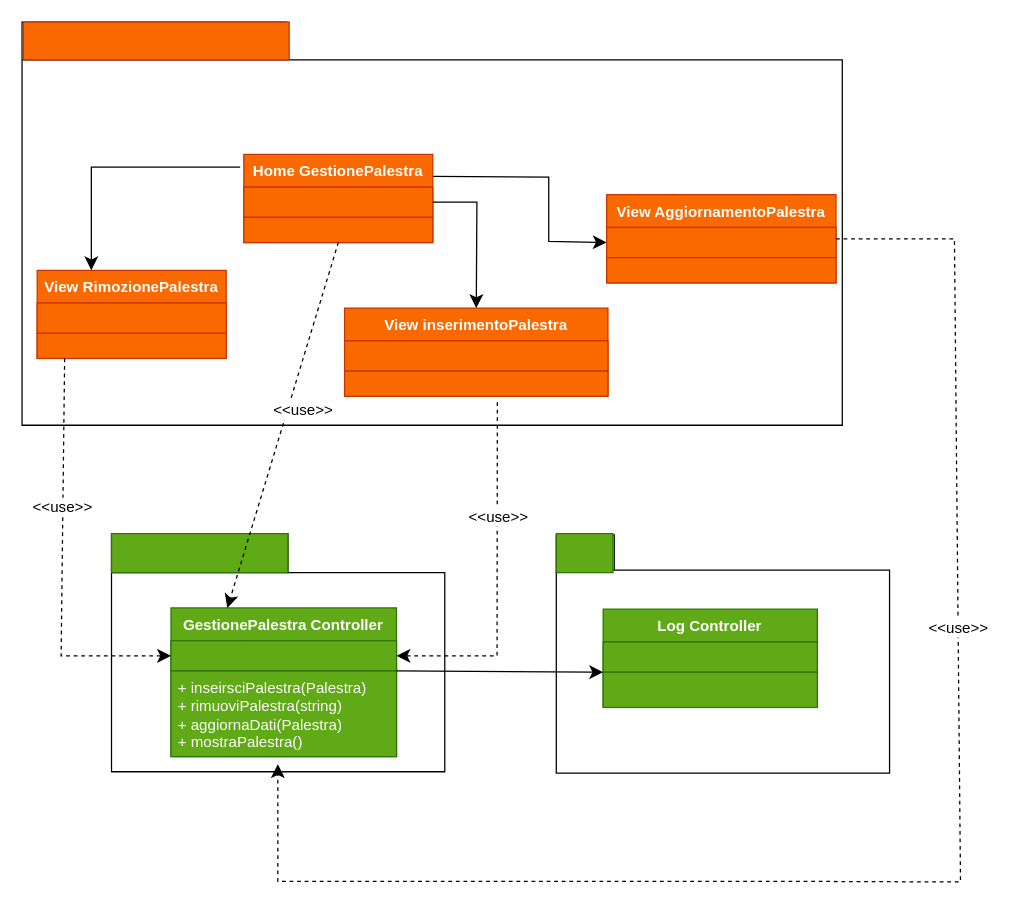
Some shapes in this 1011 by 917 pixel diagram are drawn without their labels. The shapes that lost their labels are listed below. From the top down, each one's centre as x and y in pixels, then its label:
At (x=155, y=40): "Interfaccia GestionePalestra".
At (x=199, y=552): "GestionePalestra".
At (x=584, y=552): "Log".
At (x=709, y=689): "+ aggiungiVoce(Log)".
